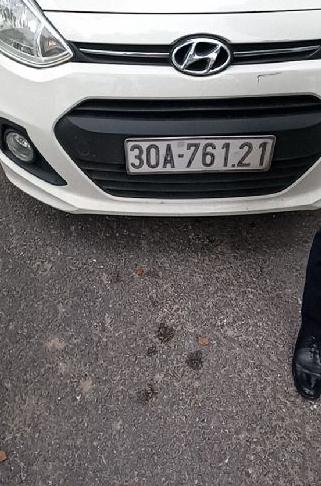Plate-iWeP: (122, 135, 276, 174)
